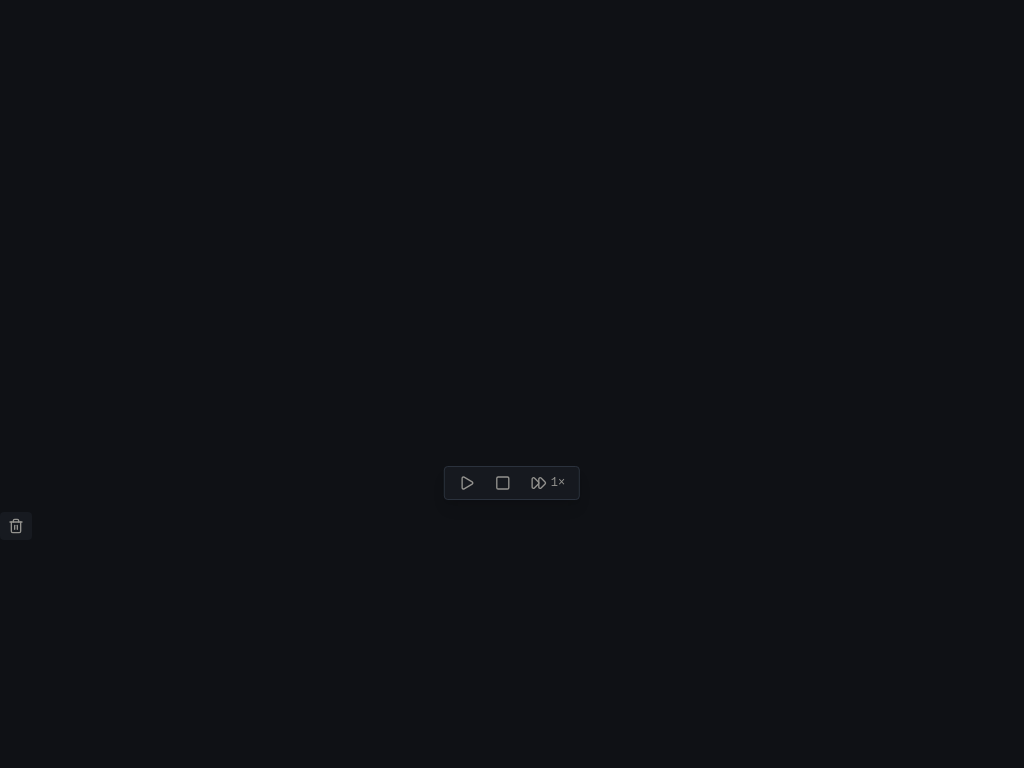
Test: a modal dialog › closes on Escape without clearing the selection on the canvas
The width and height of the screenshot is (1024, 768).
Click the button named "clear": (16, 526) [0,512,32,540]
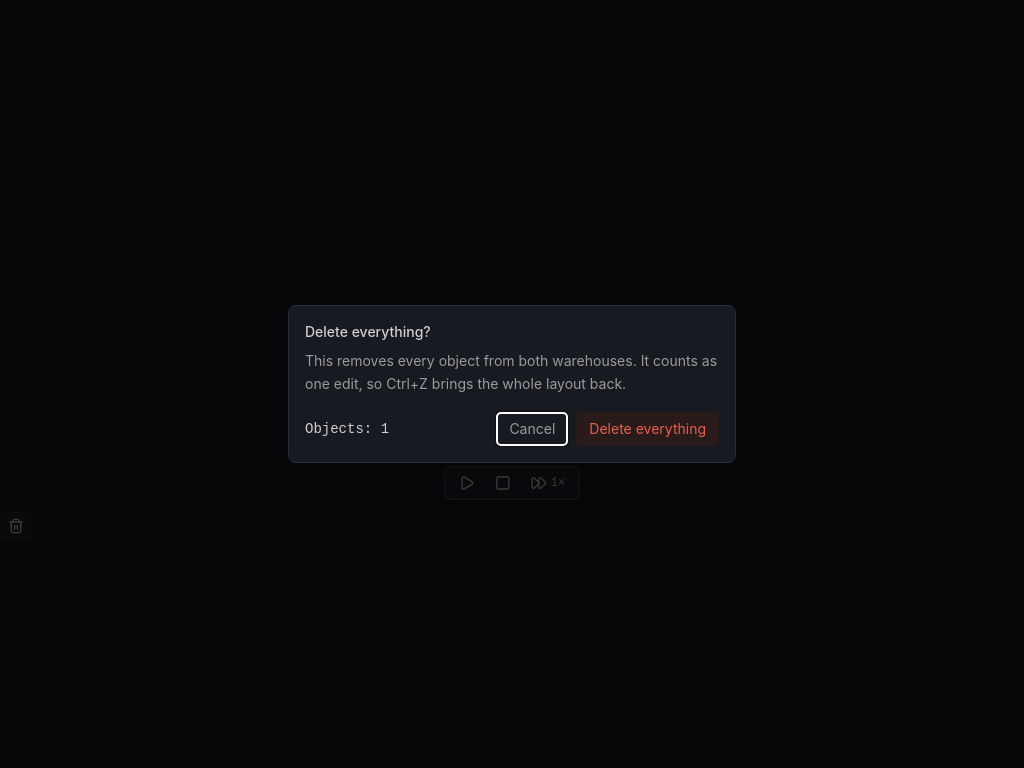
Press Escape in the button "Cancel", box [496,412,568,446]
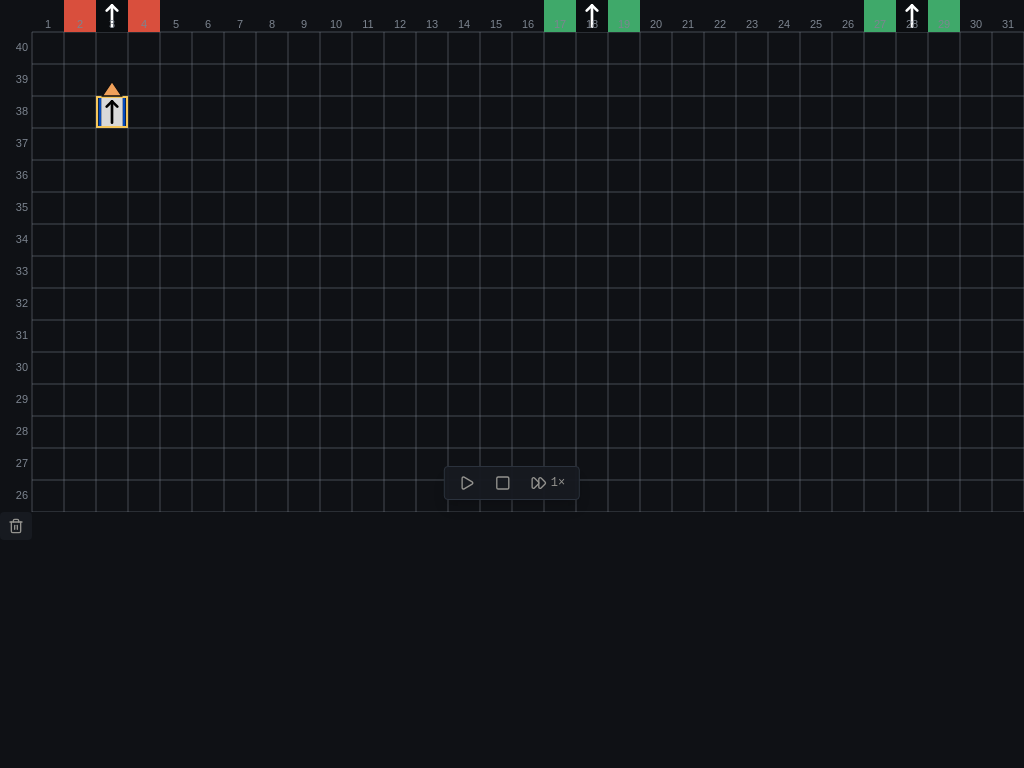
Expected: the dialog is gone
